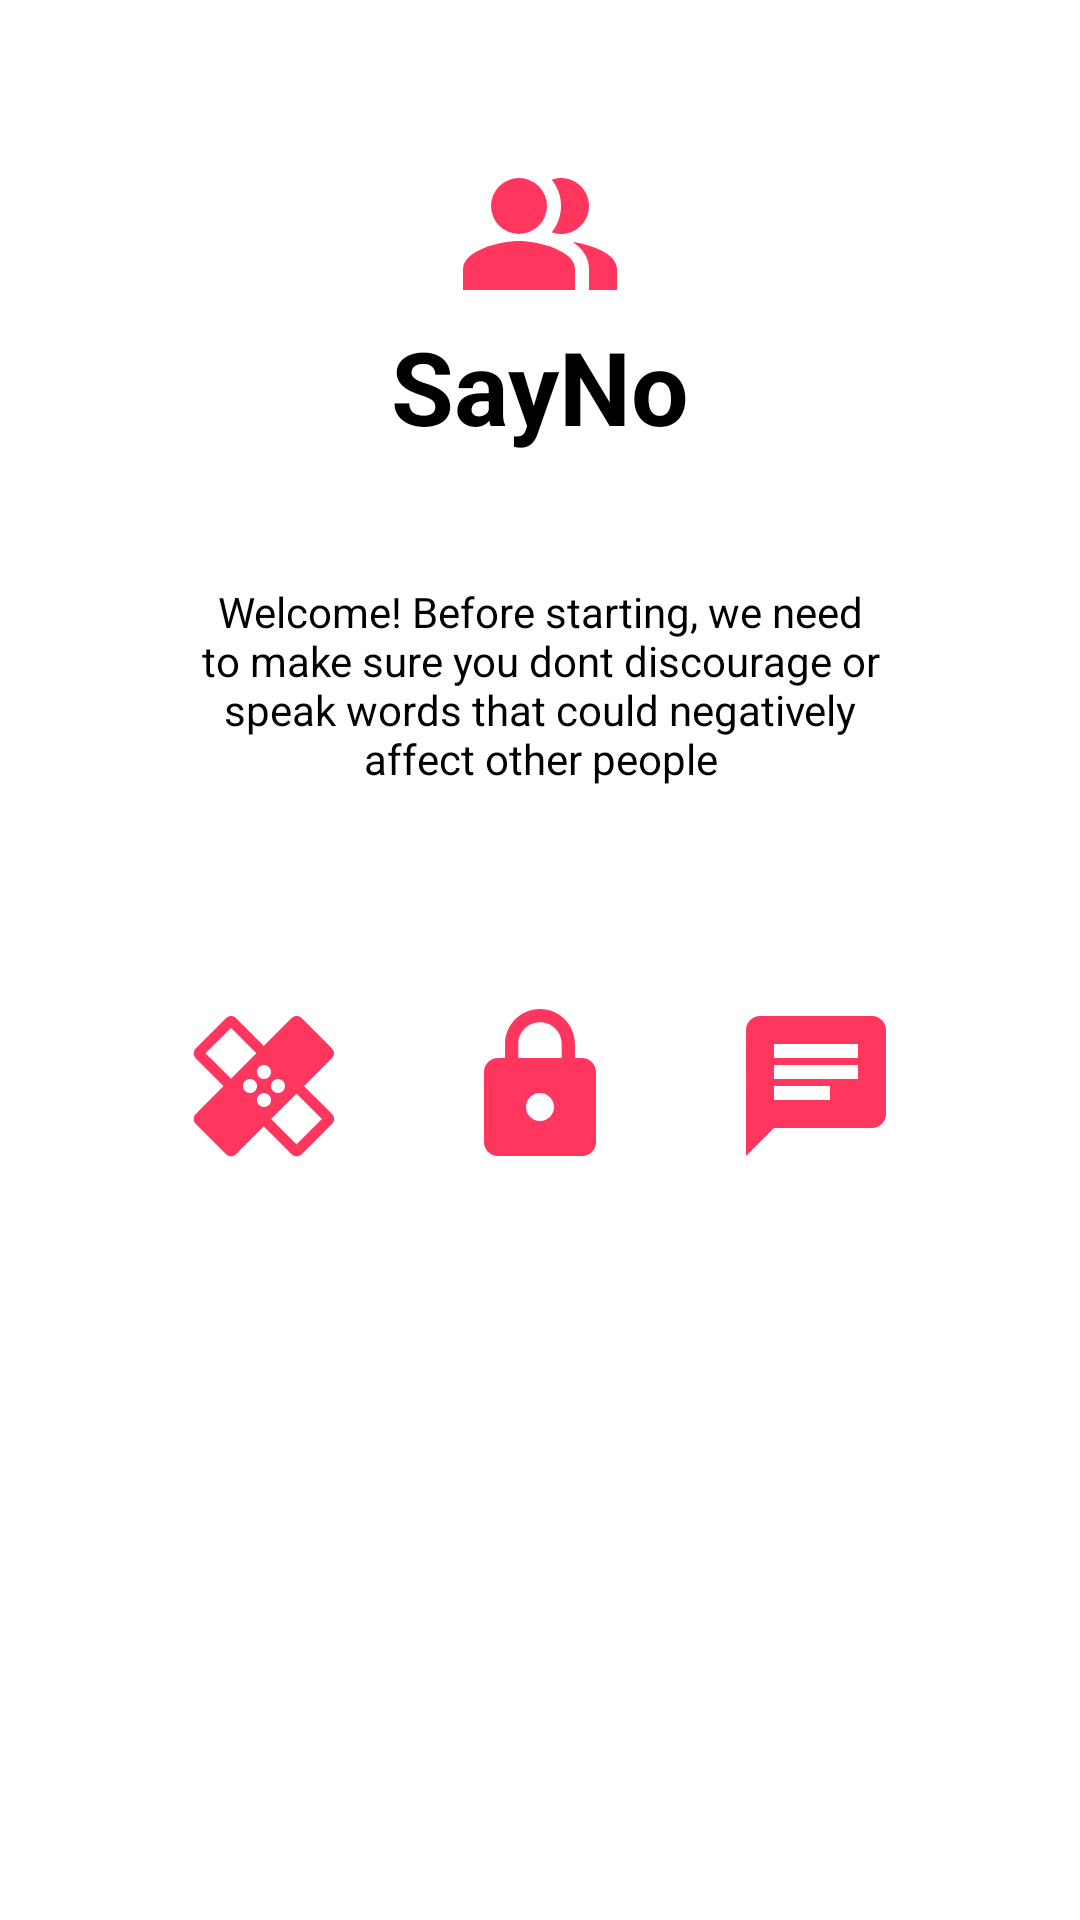

Icon bounding boxes for this 1080px×1920px phone screenshot, format (x1, y1, x2, y2):
chat: (746, 1016, 886, 1156)
healing: (193, 1016, 334, 1157)
lock: (484, 1009, 596, 1156)
people: (463, 178, 617, 290)
